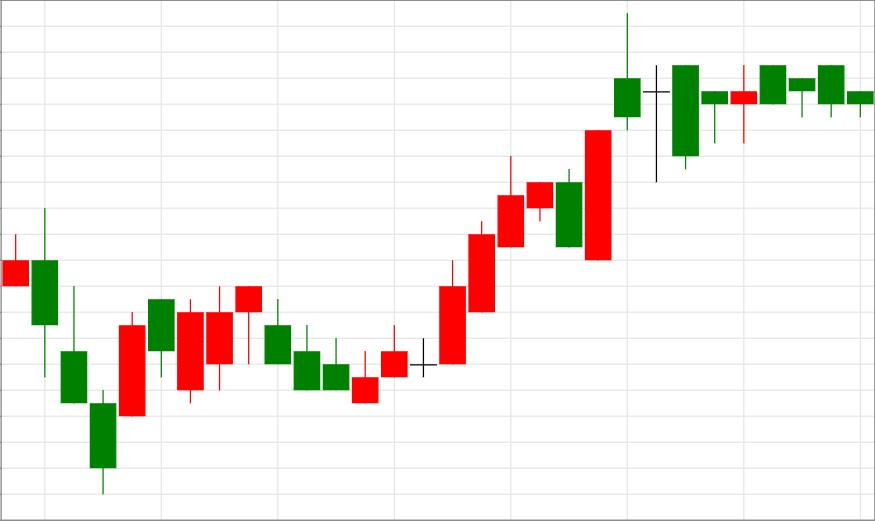shooting_star_fall: (352, 13, 641, 403)
